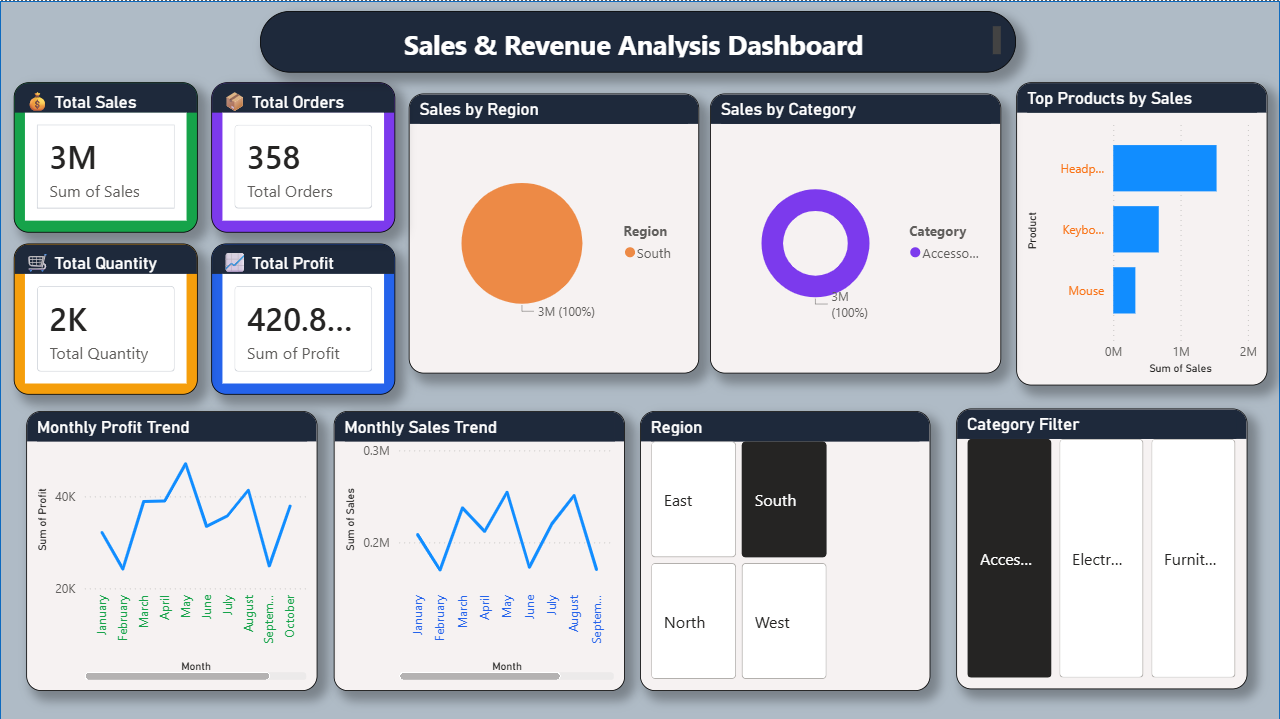

The dashboard page shown, as its layout file describes it:
{"tool":"powerbi","page":{"name":"Page 1","canvas":[1280,720],"ordinal":0},"visuals":[{"type":"shape","box":[0,0,1280,720],"z":0},{"type":"cardVisual","title":"💰 Total Sales","fields":{"Data":["Sum(sales_data_5000_rows.Sales)","Sum(sales_data_5000_rows.Sales)"]},"box":[14.3,71.4,184.3,150],"z":1000},{"type":"cardVisual","title":"📈 Total Profit","fields":{"Data":["Sum(sales_data_5000_rows.Profit)"]},"box":[210,232.9,184.3,151.4],"z":2000},{"type":"clusteredBarChart","title":"Top Products by Sales","fields":{"Category":["sales_data_5000_rows.Product"],"Y":["Sum(sales_data_5000_rows.Sales)"]},"box":[1015.7,81.4,251.4,302.9],"z":3000},{"type":"pieChart","title":"Sales by Region","fields":{"Category":["sales_data_5000_rows.Region"],"Y":["Sum(sales_data_5000_rows.Sales)"]},"box":[961.4,408.6,291.4,280],"z":4000},{"type":"donutChart","title":"Sales by Category","fields":{"Category":["sales_data_5000_rows.Category"],"Y":["Sum(sales_data_5000_rows.Sales)"]},"box":[27.1,408.6,291.4,280],"z":5000},{"type":"lineChart","title":"Monthly Sales Trend","fields":{"Category":["sales_data_5000_rows.Order_Date.Variation.Date Hierarchy.Month"],"Y":["Sum(sales_data_5000_rows.Sales)"]},"box":[408.6,92.9,291.4,280],"z":6000},{"type":"advancedSlicerVisual","title":"Category Filter","fields":{"Values":["sales_data_5000_rows.Category"]},"box":[650,408.6,291.4,280],"z":7000},{"type":"advancedSlicerVisual","fields":{"Values":["sales_data_5000_rows.Region"]},"box":[337.1,408.6,291.4,280],"z":8000},{"type":"lineChart","title":"Monthly Profit Trend","fields":{"Category":["sales_data_5000_rows.Order_Date.Variation.Date Hierarchy.Month"],"Y":["Sum(sales_data_5000_rows.Profit)"]},"box":[710,92.9,291.4,280],"z":9000},{"type":"cardVisual","title":"📦 Total Orders","fields":{"Data":["sales_data_5000_rows.Total Orders"]},"box":[211.4,71.4,184.3,150],"z":10000},{"type":"cardVisual","title":"🛒 Total Quantity","fields":{"Data":["sales_data_5000_rows.Total Quantity"]},"box":[14.3,232.9,184.3,151.4],"z":11000},{"type":"textbox","title":"Sales & Revenue Analysis Dashboard","box":[287.4,10,743.9,42.3],"z":12000}]}

Visuals, with their boxes in screenshot pixels (x1, y1, x2, y2), scaled from the page's 1280x720 canvas onto the 1280x719 screenshot:
shape: 0, 0, 1279, 718
"💰 Total Sales" cardVisual: 14, 71, 199, 221
"📈 Total Profit" cardVisual: 210, 233, 394, 384
"Top Products by Sales" clusteredBarChart: 1016, 81, 1267, 384
"Sales by Region" pieChart: 961, 408, 1253, 688
"Sales by Category" donutChart: 27, 408, 318, 688
"Monthly Sales Trend" lineChart: 409, 93, 700, 372
"Category Filter" advancedSlicerVisual: 650, 408, 941, 688
advancedSlicerVisual - sales_data_5000_rows.Region: 337, 408, 628, 688
"Monthly Profit Trend" lineChart: 710, 93, 1001, 372
"📦 Total Orders" cardVisual: 211, 71, 396, 221
"🛒 Total Quantity" cardVisual: 14, 233, 199, 384
"Sales & Revenue Analysis Dashboard" textbox: 287, 10, 1031, 52
